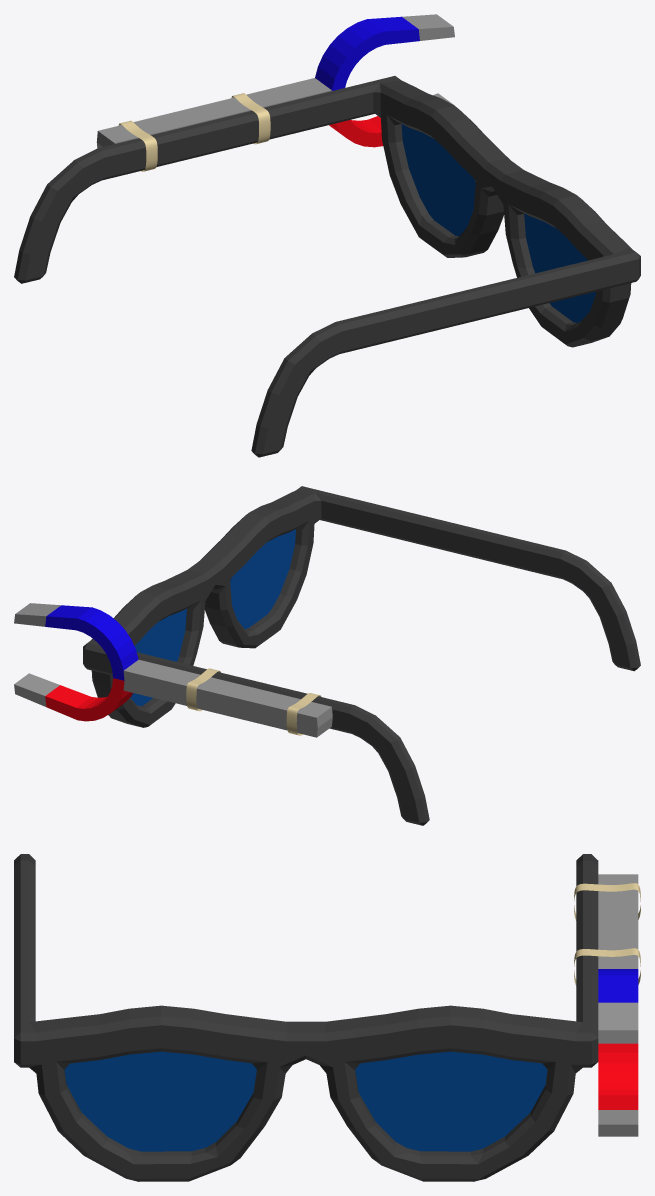
The model's file is brilMagnet.fbx.
The picture shows the model from 3 angles, top to bottom: view 1: azimuth 30°, elevation 25°; view 2: azimuth 150°, elevation 25°; view 3: azimuth 270°, elevation 25°; orthographic projection. The views are drawn at different scales.
Visible parts, largest first — view 1: BrilMagnet; view 2: BrilMagnet; view 3: BrilMagnet.
Boxes of the visible parts, x1,y1,x2,y2 form: BrilMagnet: [14, 14, 640, 457]; BrilMagnet: [14, 486, 640, 825]; BrilMagnet: [14, 854, 640, 1181].
Bounding box in the file's own units: 3131 × 1147 × 3233.
